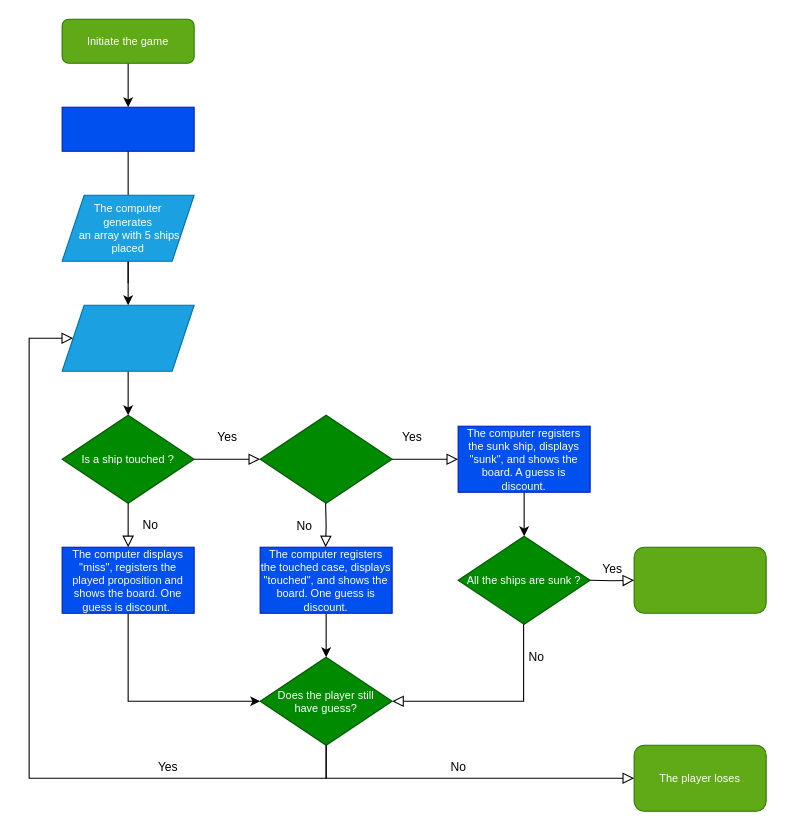
The diagram is 785 pixels wide and 831 high, and some of its shapes have lost their labels. The shapes that lost their labels are listed below. From the top down, each one's centre as x and y in pixels, then its label:
the point at 127,128: Display the rules
the point at 127,337: The player inputs a letter and a number
the point at 325,458: Is the touched ship totally sunk ?
the point at 699,579: The player wins !
